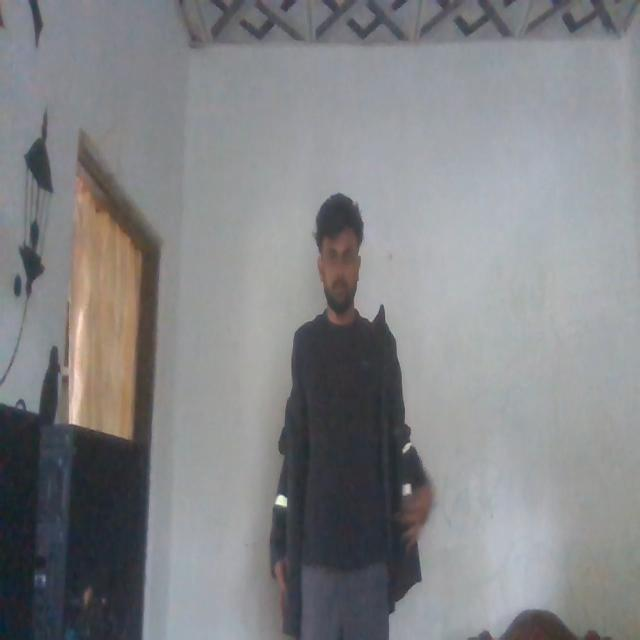Jacket_Wearer: (263, 314, 425, 618)
Person: (266, 202, 425, 640)
